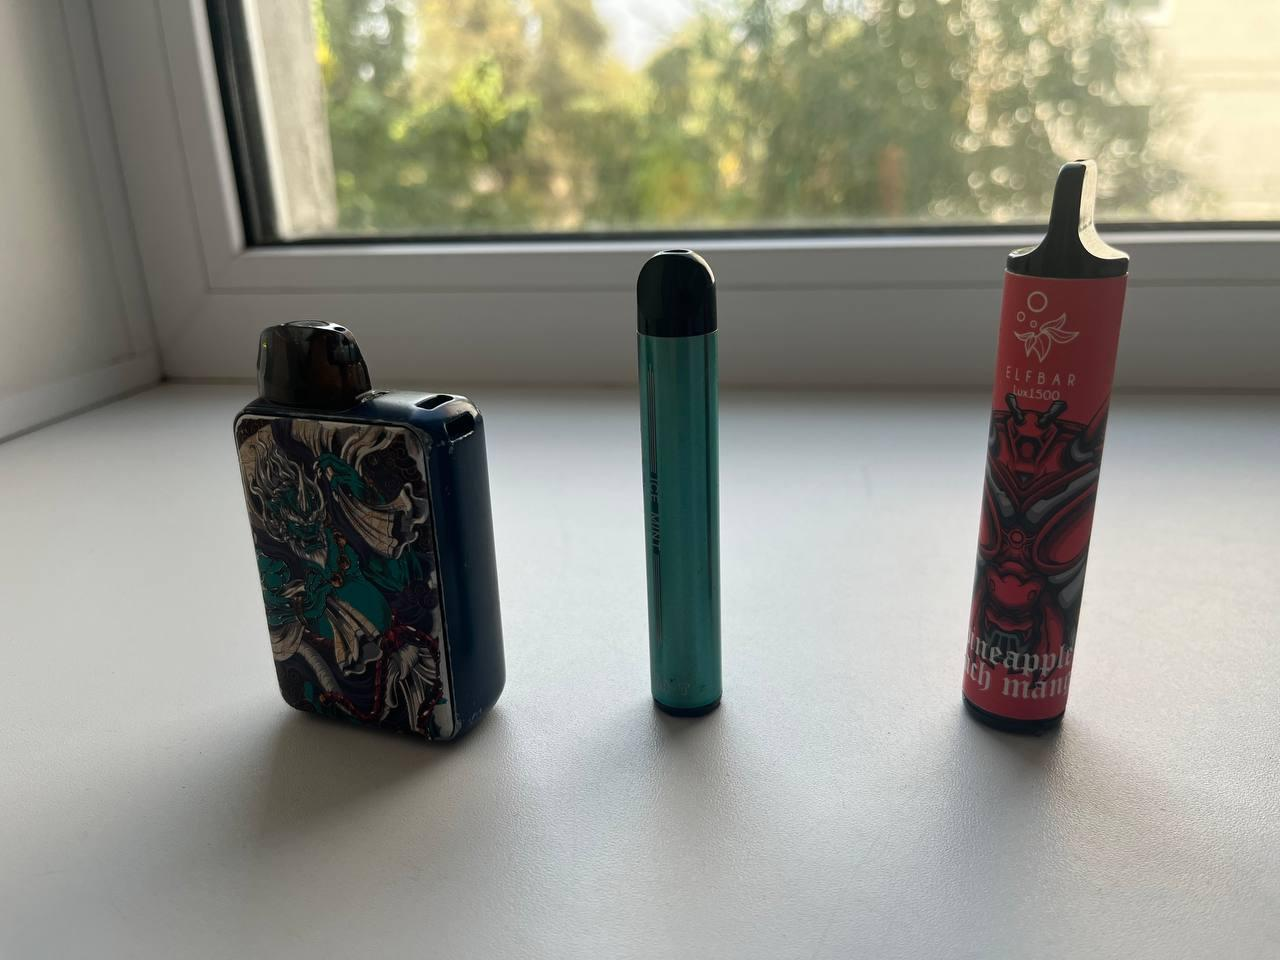Vape: (233, 320, 505, 741), (962, 161, 1128, 733), (637, 250, 721, 716)
